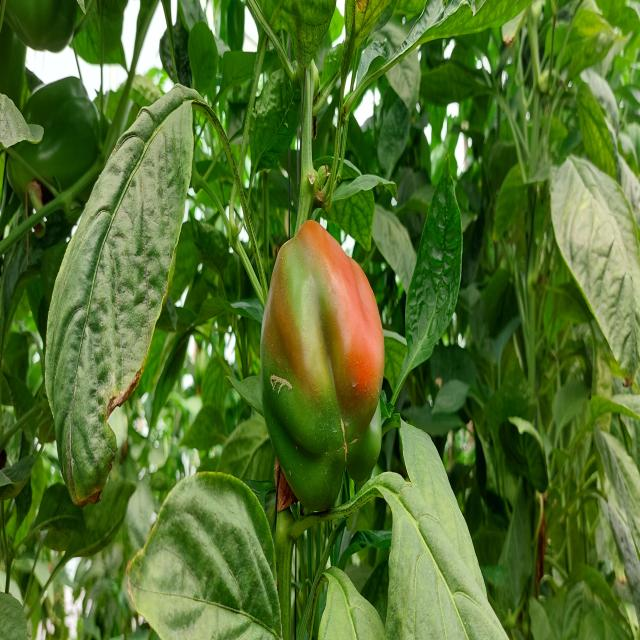BrownishRed--Can-be-Harvested: (262, 221, 389, 511)
